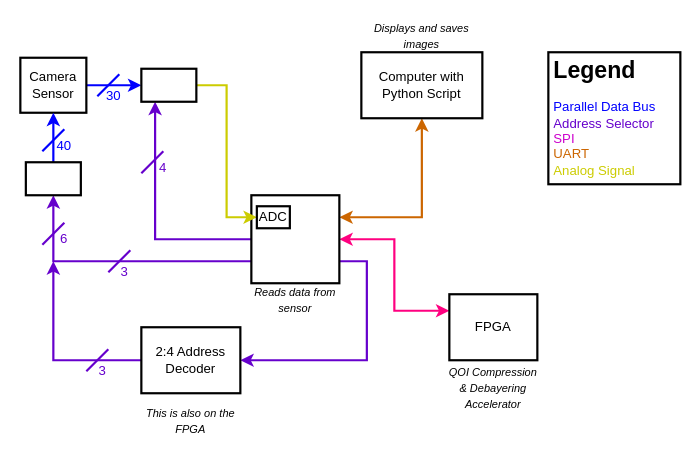
Image size: 700x455. Some labels were removed from this diagram. Here are the shapes that lost their labels. From the top down, the box of each, then its label:
(140, 67, 197, 102): Row Mux
(24, 161, 81, 196): Column Mux
(250, 194, 340, 284): MCU
